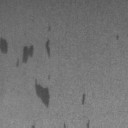red iron: (16, 39, 50, 66), (34, 75, 50, 106), (0, 37, 8, 53), (82, 93, 85, 104), (87, 120, 90, 128), (48, 26, 51, 30), (116, 34, 118, 40), (32, 125, 36, 128), (64, 124, 66, 128)
